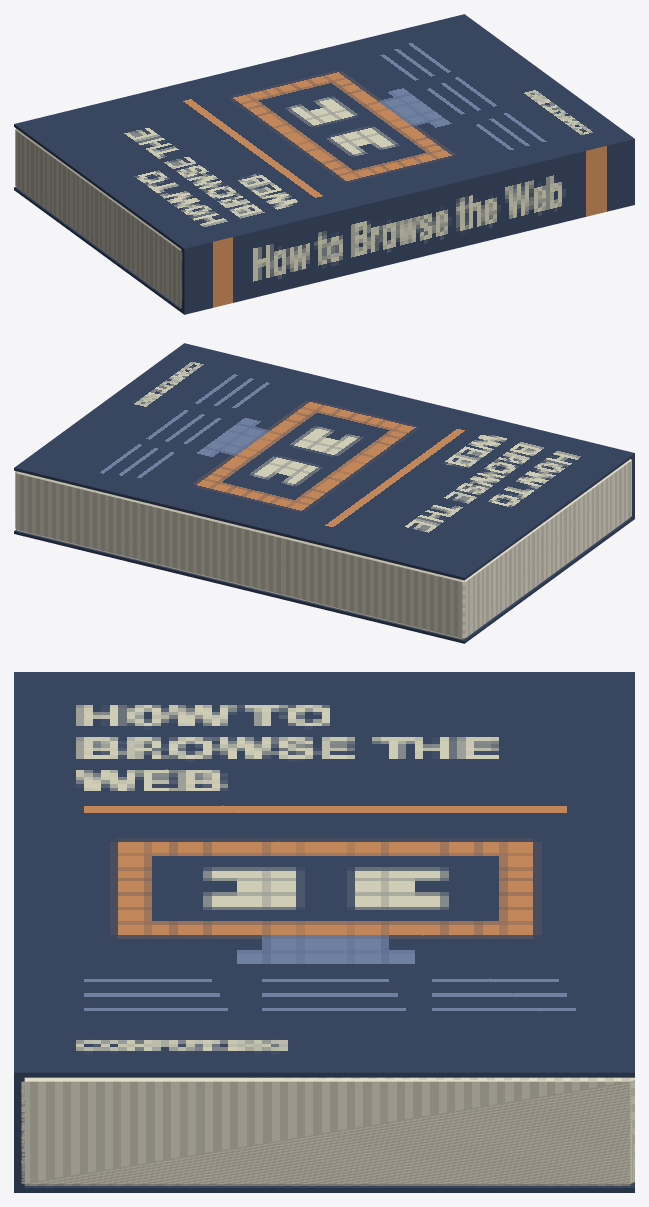
The model's file is howto_computer.glb.
The picture shows the model from 3 angles, top to bottom: view 1: azimuth 30°, elevation 25°; view 2: azimuth 150°, elevation 25°; view 3: azimuth 270°, elevation 25°; orthographic projection. The views are drawn at different scales.
Parts seen in each view (by area): view 1: block_front, block_spine, block_pages, block_back; view 2: block_front, block_pages, block_back, block_spine; view 3: block_front, block_pages, block_spine, block_back.
Part boxes in pixels (<box>): block_front: <box>14,14,631,250</box>; block_spine: <box>181,137,634,314</box>; block_pages: <box>15,128,182,307</box>; block_back: <box>14,187,183,313</box>; block_front: <box>14,344,634,580</box>; block_pages: <box>15,459,631,639</box>; block_back: <box>14,517,634,643</box>; block_spine: <box>183,343,634,519</box>; block_front: <box>16,672,634,1077</box>; block_pages: <box>21,1077,634,1185</box>; block_spine: <box>14,672,24,1192</box>; block_back: <box>16,1182,634,1192</box>.
Bounding box in the file's own units: 0.2244 × 0.0314 × 0.147.
Materials: 1 (1 with a texture image).
